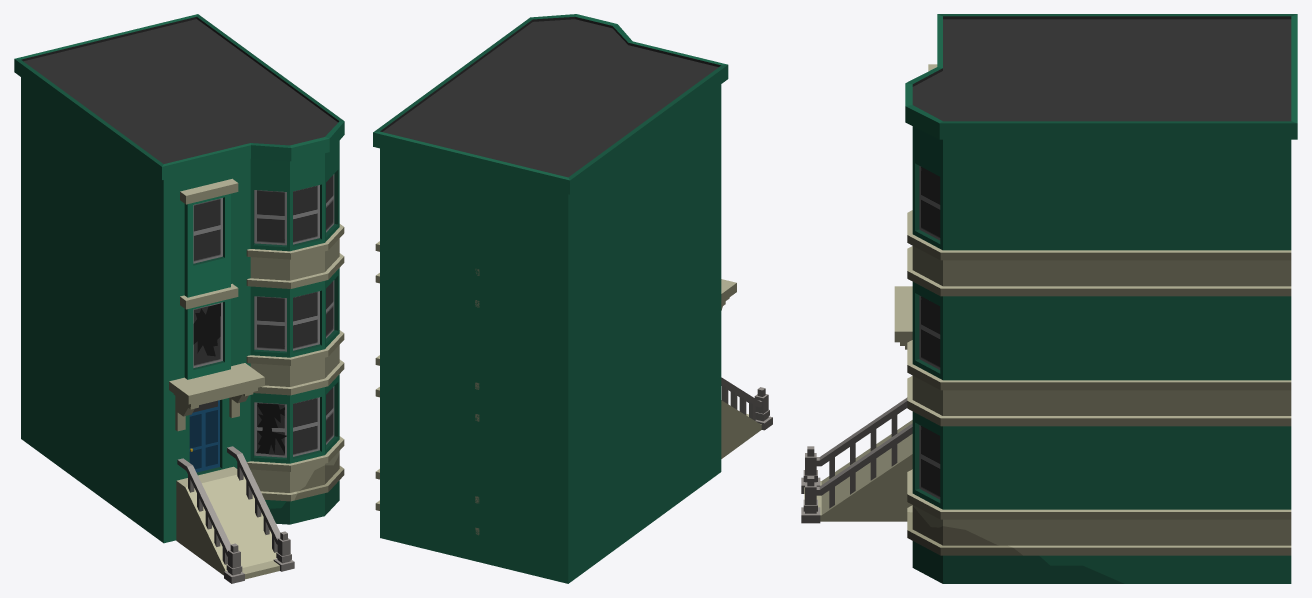
The model's file is SA_Bld_TownHouse_01.gltf.
The picture shows the model from 3 angles, left to right: view 1: azimuth 30°, elevation 25°; view 2: azimuth 150°, elevation 25°; view 3: azimuth 270°, elevation 25°; orthographic projection. The views are drawn at different scales.
Parts seen in each view (by area): view 1: SA_Bld_TownHouse_01; view 2: SA_Bld_TownHouse_01; view 3: SA_Bld_TownHouse_01.
Part boxes in pixels (x1,y1,x2,y2): SA_Bld_TownHouse_01: [14, 14, 344, 583]; SA_Bld_TownHouse_01: [373, 14, 772, 583]; SA_Bld_TownHouse_01: [801, 14, 1297, 583].
Bounding box in the file's own units: 9.4 × 18.57 × 18.02.
Materials: 1 (1 with a texture image).
